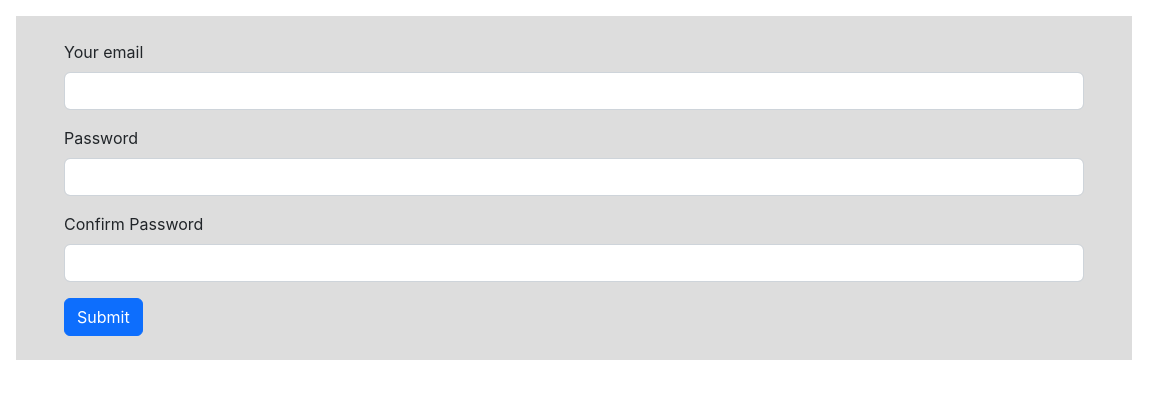
Test: check that error displays for wrong input
Expected: the text "please enter a valid email" is not shown
Step 1. Type "jandoe.com" into the field labelled "Your email" → (574, 91), box [64, 72, 1084, 110]
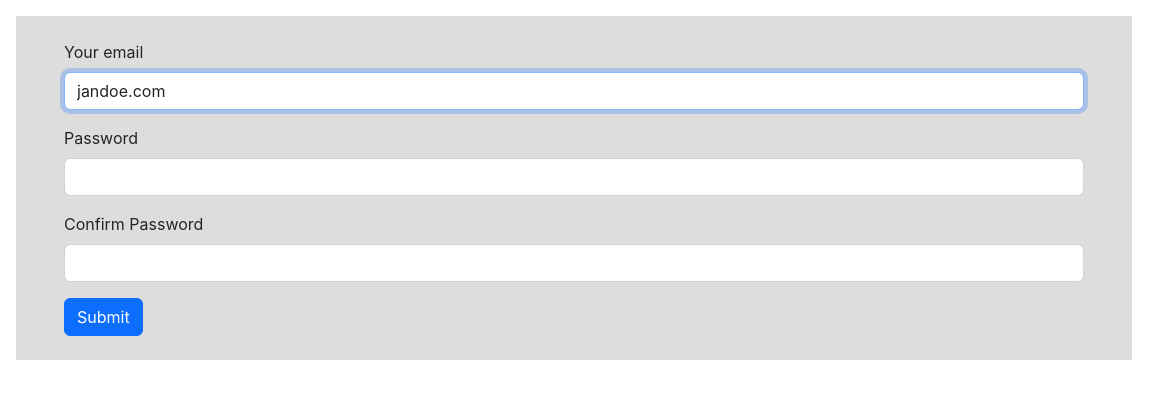
Step 2. Click the button "Submit" → (103, 317), box [64, 298, 143, 336]
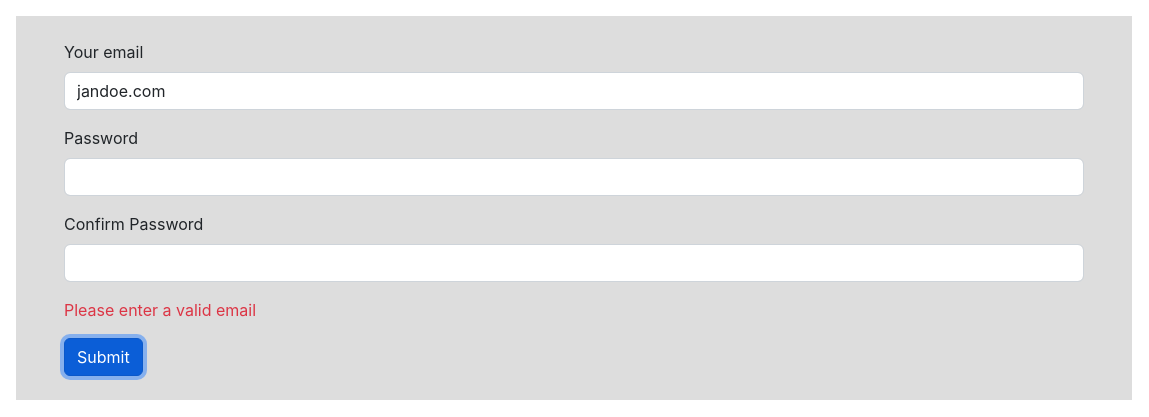
Expected: the text "Please enter a valid email" is shown, [64, 300, 256, 320]
